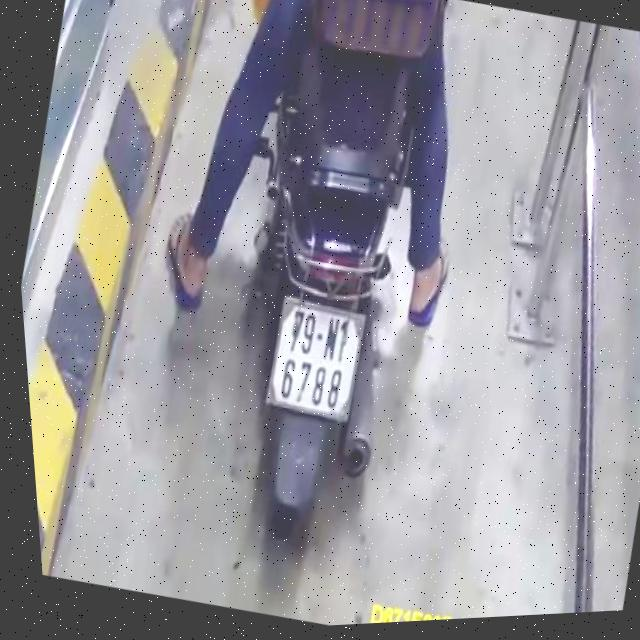motorcycle: (161, 45, 477, 578)
plate: (249, 285, 387, 438)
